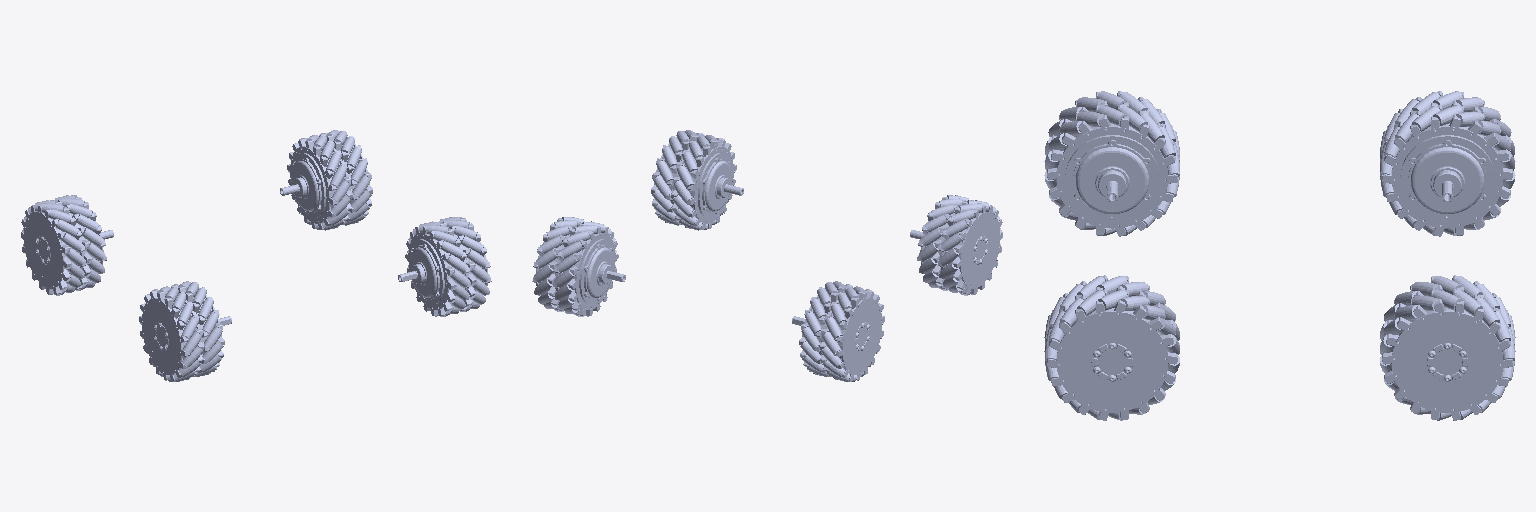
The robot description file, URDF, robot "x2robot asm v8.SLDASM":
<?xml version="1.0" encoding="utf-8"?>
<!-- This URDF was automatically created by SolidWorks to URDF Exporter! Originally created by Stephen Brawner (brawner@gmail.com) 
     Commit Version: 1.6.0-1-g15f4949  Build Version: 1.6.7594.29634
     For more information, please see http://wiki.ros.org/sw_urdf_exporter -->
<robot
  name="x2robot asm v8.SLDASM">
  <link
    name="base_link">
    <inertial>
      <origin
        xyz="0.00181551077212146 0.289782565271963 0.0337063054930977"
        rpy="0 0 0" />
      <mass
        value="32.5939089511372" />
      <inertia
        ixx="0.773483353935031"
        ixy="-5.76003192874365E-05"
        ixz="2.18049223237624E-05"
        iyy="0.558433855617655"
        iyz="0.00444961711071007"
        izz="0.743163066853681" />
    </inertial>
    <visual>
      <origin
        xyz="0 0 0"
        rpy="0 0 0" />
      <geometry>
        <mesh
          filename="package://x2robot asm v8.SLDASM/meshes/base_link.STL" />
      </geometry>
      <material
        name="">
        <color
          rgba="0.752941176470588 0.752941176470588 0.752941176470588 1" />
      </material>
    </visual>
    <collision>
      <origin
        xyz="0 0 0"
        rpy="0 0 0" />
      <geometry>
        <mesh
          filename="package://x2robot asm v8.SLDASM/meshes/base_link.STL" />
      </geometry>
    </collision>
  </link>
  <link
    name="Link-1">
    <inertial>
      <origin
        xyz="0.217928081795551 -0.109016977458499 0.430244148289498"
        rpy="0 0 0" />
      <mass
        value="1.6041776000387" />
      <inertia
        ixx="0.00468576101687174"
        ixy="3.96302053367123E-09"
        ixz="-1.43517730880854E-07"
        iyy="0.00343515998546913"
        iyz="2.75591881737306E-08"
        izz="0.00343497156272162" />
    </inertial>
    <visual>
      <origin
        xyz="0 0 0"
        rpy="0 0 0" />
      <geometry>
        <mesh
          filename="package://x2robot asm v8.SLDASM/meshes/Link-1.STL" />
      </geometry>
      <material
        name="">
        <color
          rgba="0.792156862745098 0.819607843137255 0.933333333333333 1" />
      </material>
    </visual>
    <collision>
      <origin
        xyz="0 0 0"
        rpy="0 0 0" />
      <geometry>
        <mesh
          filename="package://x2robot asm v8.SLDASM/meshes/Link-1.STL" />
      </geometry>
    </collision>
  </link>
  <joint
    name="RIGHT-BACK"
    type="continuous">
    <origin
      xyz="0.047186 0.22389 0.193"
      rpy="1.5708 0 0" />
    <parent
      link="base_link" />
    <child
      link="Link-1" />
    <axis
      xyz="0 0 0" />
  </joint>
  <link
    name="Link-2">
    <inertial>
      <origin
        xyz="0.265114018923479 0.0839831276456223 -0.20635821690083"
        rpy="0 0 0" />
      <mass
        value="1.60411041342613" />
      <inertia
        ixx="0.00468564961760502"
        ixy="2.30382753773249E-09"
        ixz="1.45963675679014E-07"
        iyy="0.00343508740485484"
        iyz="2.75408120507282E-08"
        izz="0.00343489428395389" />
    </inertial>
    <visual>
      <origin
        xyz="0 0 0"
        rpy="0 0 0" />
      <geometry>
        <mesh
          filename="package://x2robot asm v8.SLDASM/meshes/Link-2.STL" />
      </geometry>
      <material
        name="">
        <color
          rgba="0.792156862745098 0.819607843137255 0.933333333333333 1" />
      </material>
    </visual>
    <collision>
      <origin
        xyz="0 0 0"
        rpy="0 0 0" />
      <geometry>
        <mesh
          filename="package://x2robot asm v8.SLDASM/meshes/Link-2.STL" />
      </geometry>
    </collision>
  </link>
  <joint
    name="RIGHT-FRONT"
    type="continuous">
    <origin
      xyz="0 0 0"
      rpy="1.5708 0 0" />
    <parent
      link="base_link" />
    <child
      link="Link-2" />
    <axis
      xyz="0 0 0" />
  </joint>
  <link
    name="LINK_3">
    <inertial>
      <origin
        xyz="-0.265114601339224 0.0839814720749277 0.206358510895148"
        rpy="0 0 0" />
      <mass
        value="1.60413981509413" />
      <inertia
        ixx="0.00468573818299734"
        ixy="-7.99115880287805E-10"
        ixz="1.4845490194219E-07"
        iyy="0.00343505539242712"
        iyz="2.00659775123314E-08"
        izz="0.00343502313768744" />
    </inertial>
    <visual>
      <origin
        xyz="0 0 0"
        rpy="0 0 0" />
      <geometry>
        <mesh
          filename="package://x2robot asm v8.SLDASM/meshes/LINK_3.STL" />
      </geometry>
      <material
        name="">
        <color
          rgba="0.792156862745098 0.819607843137255 0.933333333333333 1" />
      </material>
    </visual>
    <collision>
      <origin
        xyz="0 0 0"
        rpy="0 0 0" />
      <geometry>
        <mesh
          filename="package://x2robot asm v8.SLDASM/meshes/LINK_3.STL" />
      </geometry>
    </collision>
  </link>
  <joint
    name="LEFT-BACK"
    type="continuous">
    <origin
      xyz="0 0 0"
      rpy="1.5708 0 0" />
    <parent
      link="base_link" />
    <child
      link="LINK_3" />
    <axis
      xyz="0 0 0" />
  </joint>
  <link
    name="Link-4">
    <inertial>
      <origin
        xyz="-0.265114138859244 0.0839832516607994 -0.206358056810641"
        rpy="0 0 0" />
      <mass
        value="1.6041799665599" />
      <inertia
        ixx="0.00468575724685141"
        ixy="3.04678496087555E-09"
        ixz="-1.39671243238002E-07"
        iyy="0.00343512676061516"
        iyz="1.95373558824057E-08"
        izz="0.00343502859303256" />
    </inertial>
    <visual>
      <origin
        xyz="0 0 0"
        rpy="0 0 0" />
      <geometry>
        <mesh
          filename="package://x2robot asm v8.SLDASM/meshes/Link-4.STL" />
      </geometry>
      <material
        name="">
        <color
          rgba="0.792156862745098 0.819607843137255 0.933333333333333 1" />
      </material>
    </visual>
    <collision>
      <origin
        xyz="0 0 0"
        rpy="0 0 0" />
      <geometry>
        <mesh
          filename="package://x2robot asm v8.SLDASM/meshes/Link-4.STL" />
      </geometry>
    </collision>
  </link>
  <joint
    name="LEFT-FRONT"
    type="continuous">
    <origin
      xyz="0 0 0"
      rpy="1.5708 0 0" />
    <parent
      link="base_link" />
    <child
      link="Link-4" />
    <axis
      xyz="0 0 0" />
  </joint>
  <link
    name="Link-5">
    <inertial>
      <origin
        xyz="0.0105298216509685 0.188397925167294 0.189068391963544"
        rpy="0 0 0" />
      <mass
        value="11.7545674062479" />
      <inertia
        ixx="0.0837677945725179"
        ixy="-0.000166370336036466"
        ixz="-4.95327182941048E-05"
        iyy="0.11284451750474"
        iyz="0.00222637071388389"
        izz="0.15750227273717" />
    </inertial>
    <visual>
      <origin
        xyz="0 0 0"
        rpy="0 0 0" />
      <geometry>
        <mesh
          filename="package://x2robot asm v8.SLDASM/meshes/Link-5.STL" />
      </geometry>
      <material
        name="">
        <color
          rgba="0.752941176470588 0.752941176470588 0.752941176470588 1" />
      </material>
    </visual>
    <collision>
      <origin
        xyz="0 0 0"
        rpy="0 0 0" />
      <geometry>
        <mesh
          filename="package://x2robot asm v8.SLDASM/meshes/Link-5.STL" />
      </geometry>
    </collision>
  </link>
  <joint
    name="LIFT"
    type="prismatic">
    <origin
      xyz="0 0.035 0.29107"
      rpy="1.5708 0 3.1416" />
    <parent
      link="base_link" />
    <child
      link="Link-5" />
    <axis
      xyz="0 1 0" />
    <limit
      lower="0"
      upper="0"
      effort="0"
      velocity="0" />
  </joint>
</robot>

--- Facts derived from the render (not from the file) ---
Views: 3 orthographic renders of the robot side by side, from view 1: azimuth 30°, elevation 25°; view 2: azimuth 150°, elevation 25°; view 3: azimuth 270°, elevation 25°.
Model x2robot asm v8.SLDASM with 6 links and 5 joints (4 continuous, 1 prismatic), rooted at base_link, posed all joints at 0.
Visible links, largest first — view 1: Link-4, LINK_3, Link-2, Link-1; view 2: LINK_3, Link-4, Link-1, Link-2; view 3: LINK_3, Link-4, Link-1, Link-2.
Boxes of the visible links, x1,y1,x2,y2 form: Link-4: (21, 195, 113, 295); LINK_3: (139, 281, 231, 381); Link-2: (280, 130, 372, 230); Link-1: (398, 217, 491, 316); LINK_3: (910, 195, 1002, 295); Link-4: (792, 281, 884, 381); Link-1: (651, 130, 743, 230); Link-2: (532, 217, 625, 316); LINK_3: (1044, 91, 1179, 236); Link-4: (1380, 91, 1515, 236); Link-1: (1044, 275, 1179, 420); Link-2: (1380, 275, 1515, 420).
Size in the robot's own frame: 0.6249 by 0.58 by 0.1672 metres.
4 mesh visuals loaded from 6 distinct referenced files (4 binary STL); not drawn: 2 (reference not matched to a file when rendering).
